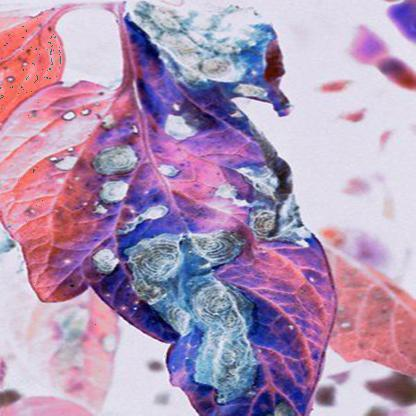Potato leaf late blight: (4, 12, 345, 416)
